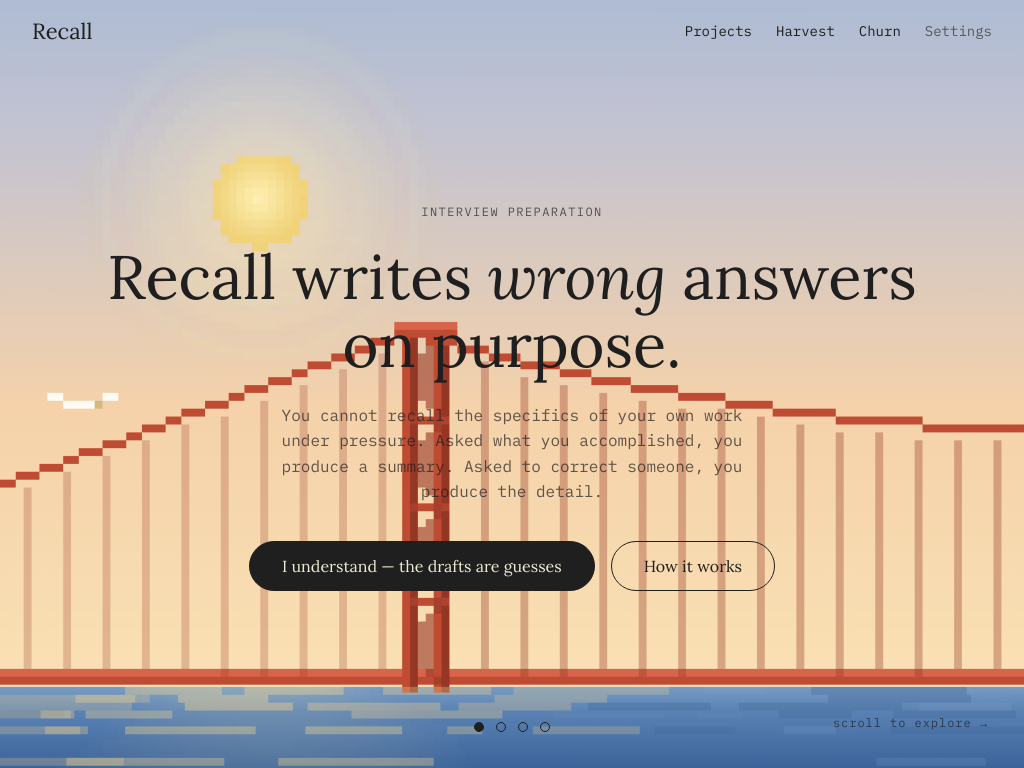
Test case: the app runs › routes to settings without exposing browser-side credential controls
Expected: the heading "Recall writes wrong answers on purpose." is shown, 82,243 -> 942,379
What coordinates should you click on to do the following:
click the button "I understand — the drafts are guesses"
I would click on:
 (422, 566)
Its box is 249,541 -> 595,591.
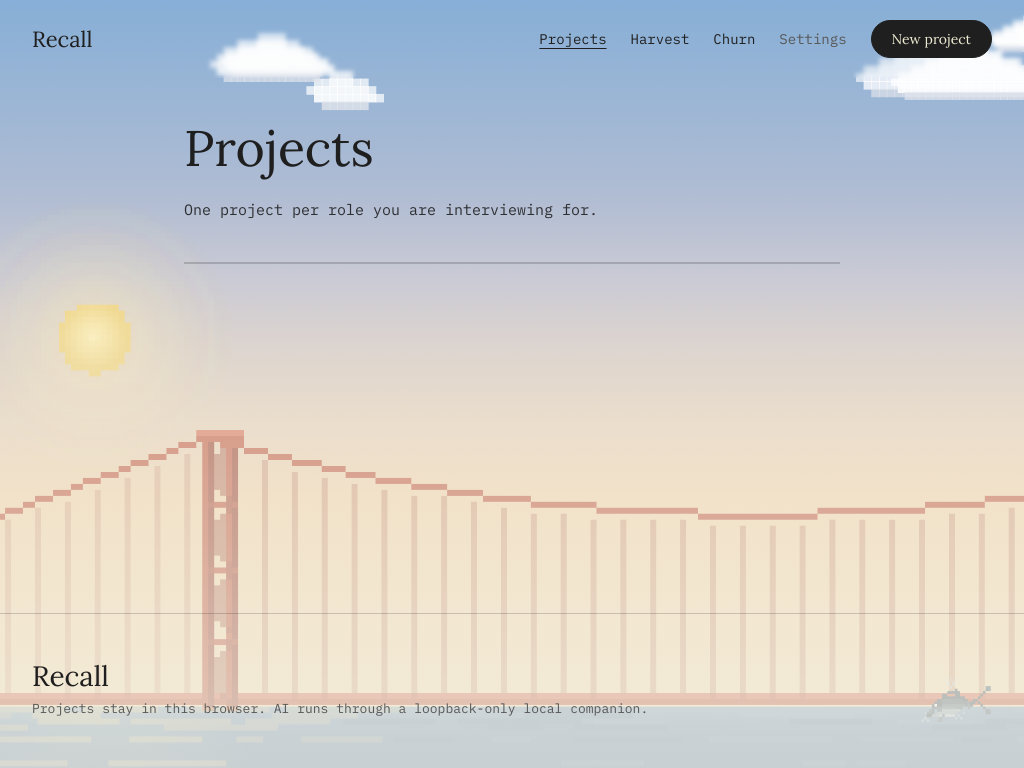
What coordinates should you click on to do the following:
click the link "Settings"
I would click on:
 (813, 39)
Its box is 779,29 -> 847,49.
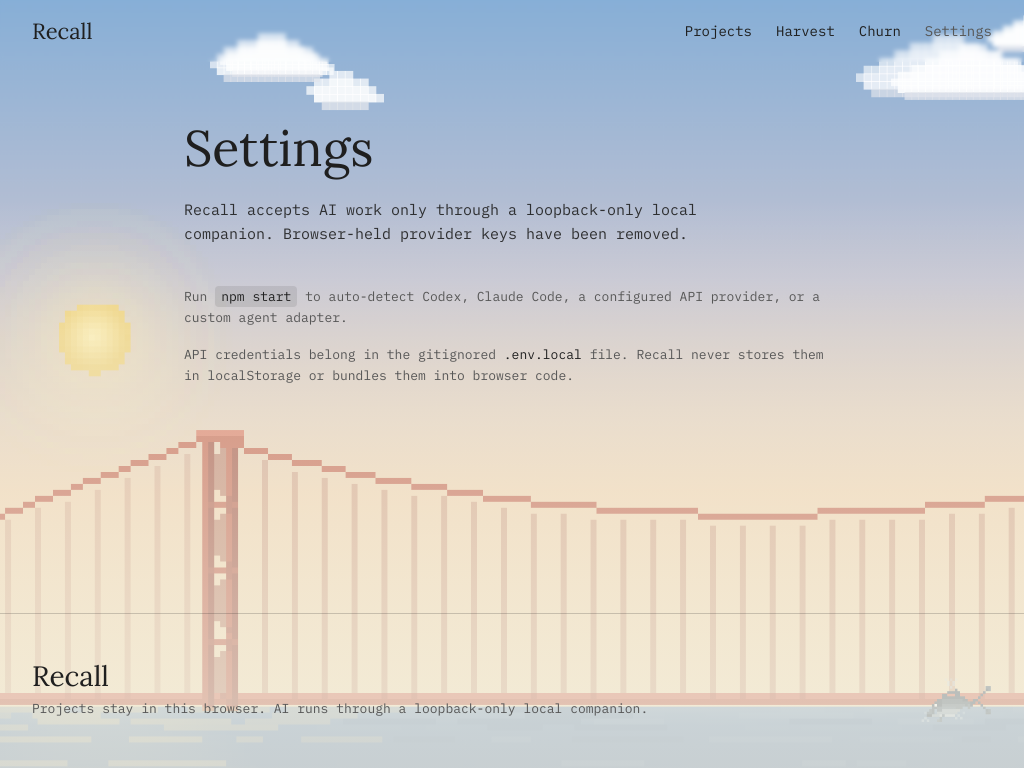
Expected: the text "Browser-held provider keys have been removed" is shown, 184,200 -> 697,242
